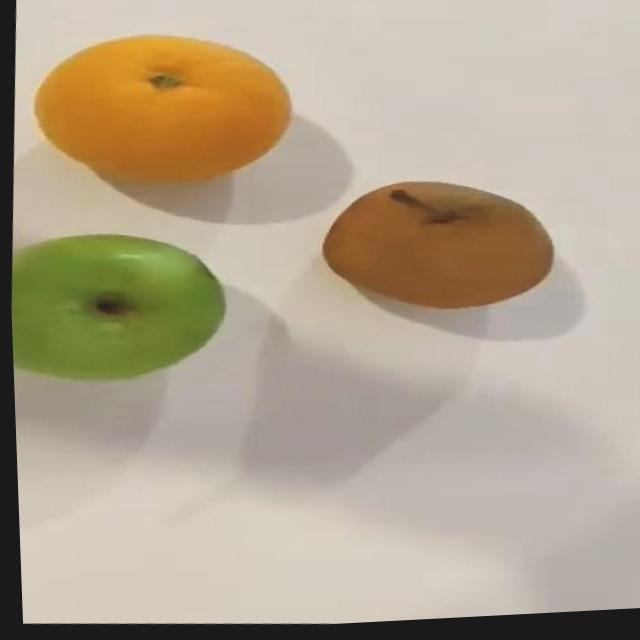Apple: (7, 223, 228, 391)
Orange: (25, 22, 297, 197)
